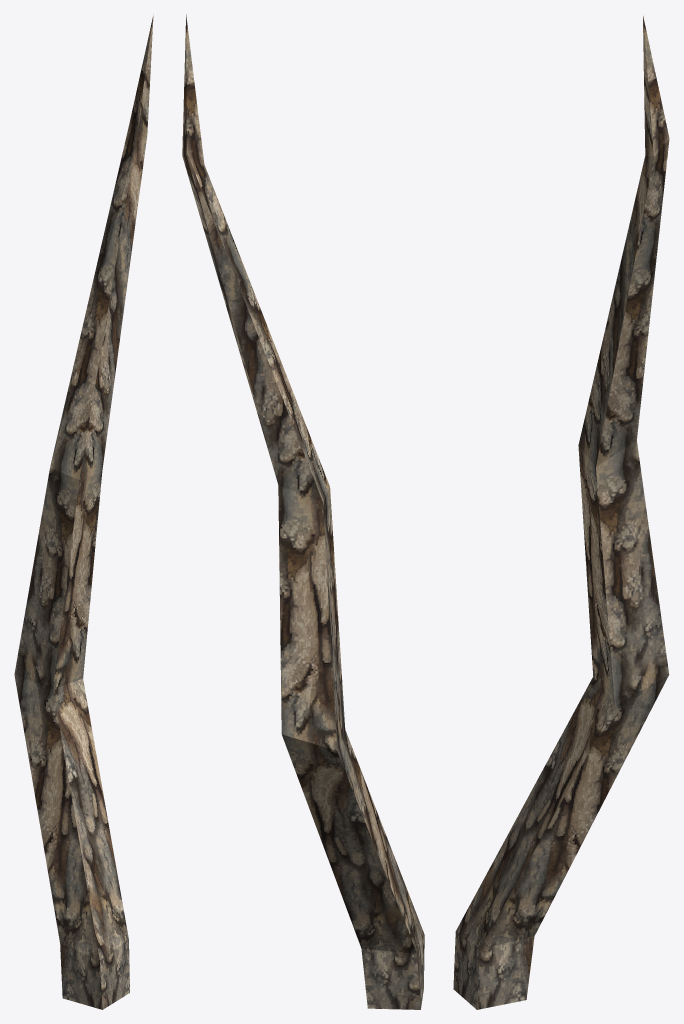
File: Forest_1_Tree_3.gltf
3 renders of one model, left to right at view 1: azimuth 30°, elevation 25°; view 2: azimuth 150°, elevation 25°; view 3: azimuth 270°, elevation 25°, orthographic. The views are drawn at different scales.
Visible parts, largest first — view 1: Forest_1_Tree_3; view 2: Forest_1_Tree_3; view 3: Forest_1_Tree_3.
Boxes of the visible parts, box(x1,y1,x2,y2) form: Forest_1_Tree_3: box(14, 14, 153, 1009); Forest_1_Tree_3: box(182, 14, 424, 1009); Forest_1_Tree_3: box(453, 16, 669, 1009).
Size of the model in its own units: 1.99 by 11.37 by 2.12.
Materials: 1 (1 with a texture image).
